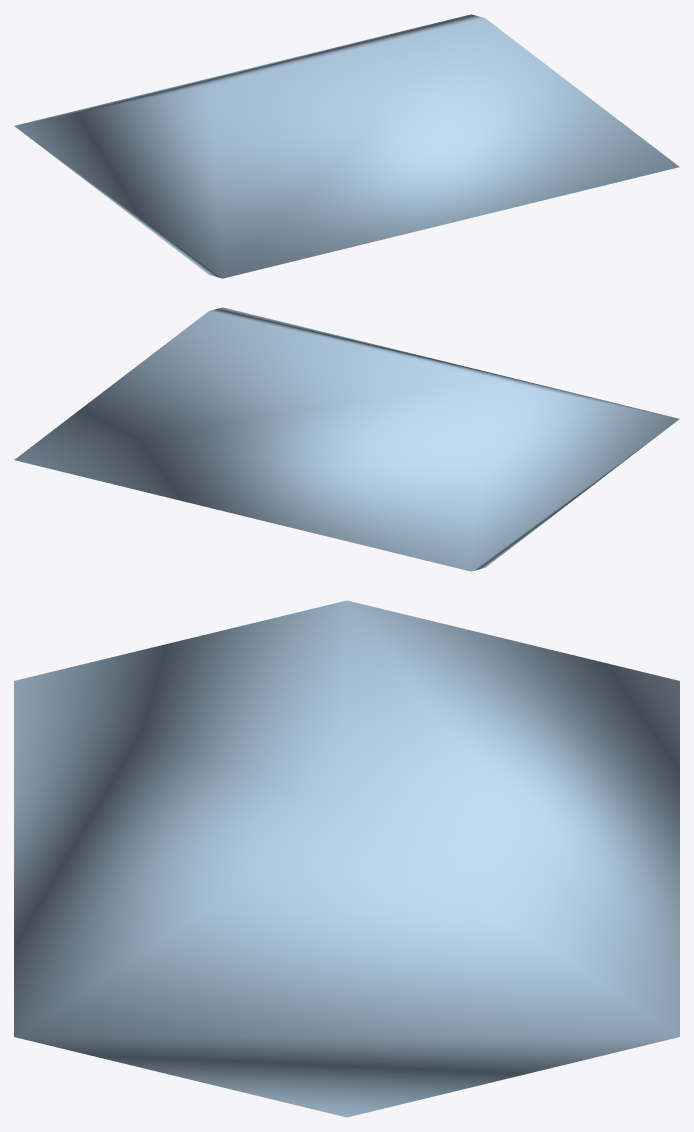
The model's file is peridot.glb.
3 renders of one model, top to bottom at view 1: azimuth 30°, elevation 25°; view 2: azimuth 150°, elevation 25°; view 3: azimuth 270°, elevation 25°, orthographic. The views are drawn at different scales.
Parts seen in each view (by area): view 1: peridot; view 2: peridot; view 3: peridot.
Part boxes in pixels (x1,y1,x2,y2): peridot: (14,14,679,278); peridot: (14,307,679,571); peridot: (14,600,679,1117).
Size of the model in its own units: 2.83 by 1.12 by 2.24.
